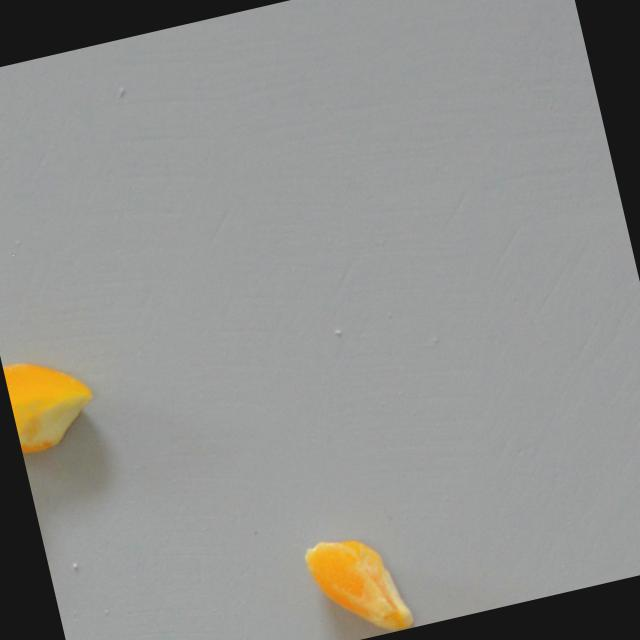dañado: (295, 520, 424, 640), (0, 338, 111, 457)
